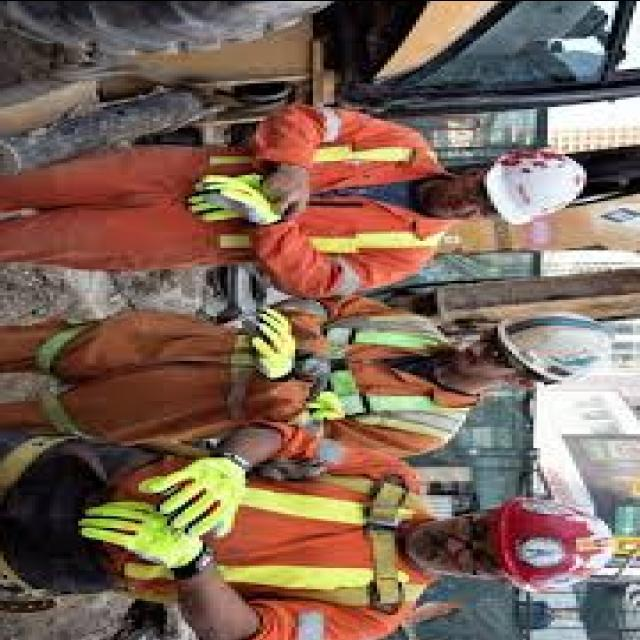gloved: (78, 501, 214, 577), (138, 456, 252, 539), (188, 172, 288, 226), (252, 308, 298, 378)
not-gloved: (264, 160, 314, 214)
